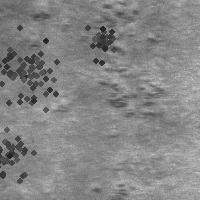rolled-in_scale: (73, 60, 163, 127), (0, 27, 66, 117), (59, 1, 158, 58), (0, 113, 41, 187), (2, 3, 52, 53), (77, 16, 123, 62), (89, 162, 139, 199)
